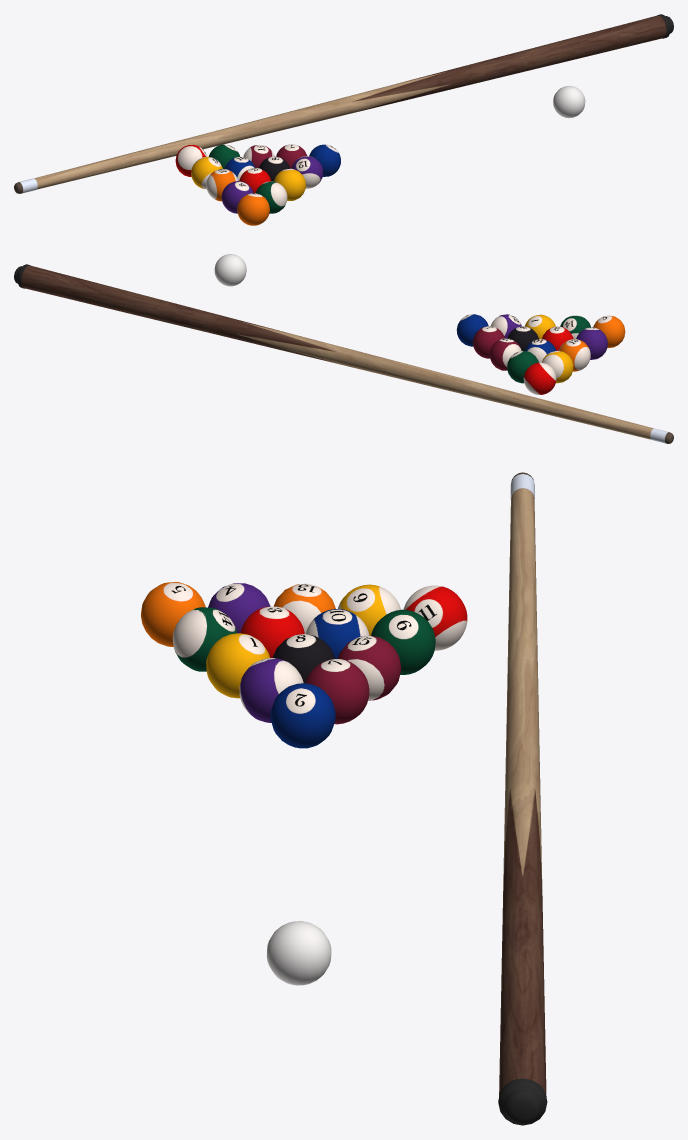
3 renders of one model, top to bottom at view 1: azimuth 30°, elevation 25°; view 2: azimuth 150°, elevation 25°; view 3: azimuth 270°, elevation 25°, orthographic. The views are drawn at different scales.
Parts seen in each view (by area): view 1: Pool_Cue, PoolBall_5, PoolBall_White, PoolBall_1, PoolBall_14, PoolBall_12, PoolBall_2, PoolBall_4, PoolBall_13, PoolBall_11, PoolBall_9, PoolBall_3 (+5 smaller); view 2: Pool_Cue, PoolBall_11, PoolBall_White, PoolBall_15, PoolBall_5, PoolBall_13, PoolBall_4, PoolBall_7, PoolBall_9, PoolBall_6, PoolBall_2, PoolBall_8 (+5 smaller); view 3: Pool_Cue, PoolBall_2, PoolBall_White, PoolBall_6, PoolBall_14, PoolBall_7, PoolBall_1, PoolBall_5, PoolBall_12, PoolBall_11, PoolBall_15, PoolBall_3 (+5 smaller).
Boxes of the visible parts, left/top/right/bottom form: Pool_Cue: left=14, top=14, right=673, bottom=193; PoolBall_5: left=237, top=193, right=269, bottom=225; PoolBall_White: left=553, top=86, right=585, bottom=118; PoolBall_1: left=274, top=168, right=305, bottom=200; PoolBall_14: left=255, top=181, right=287, bottom=213; PoolBall_12: left=291, top=156, right=323, bottom=188; PoolBall_2: left=309, top=144, right=340, bottom=176; PoolBall_4: left=221, top=181, right=253, bottom=213; PoolBall_13: left=206, top=169, right=238, bottom=201; PoolBall_11: left=175, top=144, right=207, bottom=176; PoolBall_9: left=191, top=157, right=222, bottom=189; PoolBall_3: left=239, top=168, right=270, bottom=193; Pool_Cue: left=14, top=264, right=673, bottom=443; PoolBall_11: left=523, top=362, right=556, bottom=394; PoolBall_White: left=214, top=254, right=246, bottom=286; PoolBall_15: left=489, top=338, right=521, bottom=370; PoolBall_5: left=593, top=315, right=625, bottom=347; PoolBall_13: left=559, top=339, right=590, bottom=371; PoolBall_4: left=576, top=327, right=607, bottom=359; PoolBall_7: left=473, top=326, right=504, bottom=358; PoolBall_9: left=542, top=350, right=573, bottom=383; PoolBall_6: left=507, top=351, right=538, bottom=383; PoolBall_2: left=456, top=314, right=488, bottom=346; PoolBall_8: left=507, top=326, right=538, bottom=350; Pool_Cue: left=498, top=472, right=547, bottom=1125; PoolBall_2: left=270, top=683, right=335, bottom=748; PoolBall_White: left=266, top=921, right=331, bottom=985; PoolBall_6: left=371, top=609, right=435, bottom=674; PoolBall_14: left=172, top=607, right=236, bottom=671; PoolBall_7: left=305, top=659, right=369, bottom=724; PoolBall_1: left=206, top=633, right=269, bottom=698; PoolBall_5: left=141, top=582, right=205, bottom=646; PoolBall_12: left=239, top=658, right=303, bottom=722; PoolBall_11: left=403, top=585, right=467, bottom=650; PoolBall_15: left=338, top=635, right=401, bottom=700; PoolBall_3: left=240, top=606, right=304, bottom=657.
Bounding box in the file's own units: 5.55 × 0.2478 × 1.49.
Materials: 17 (17 with a texture image).
